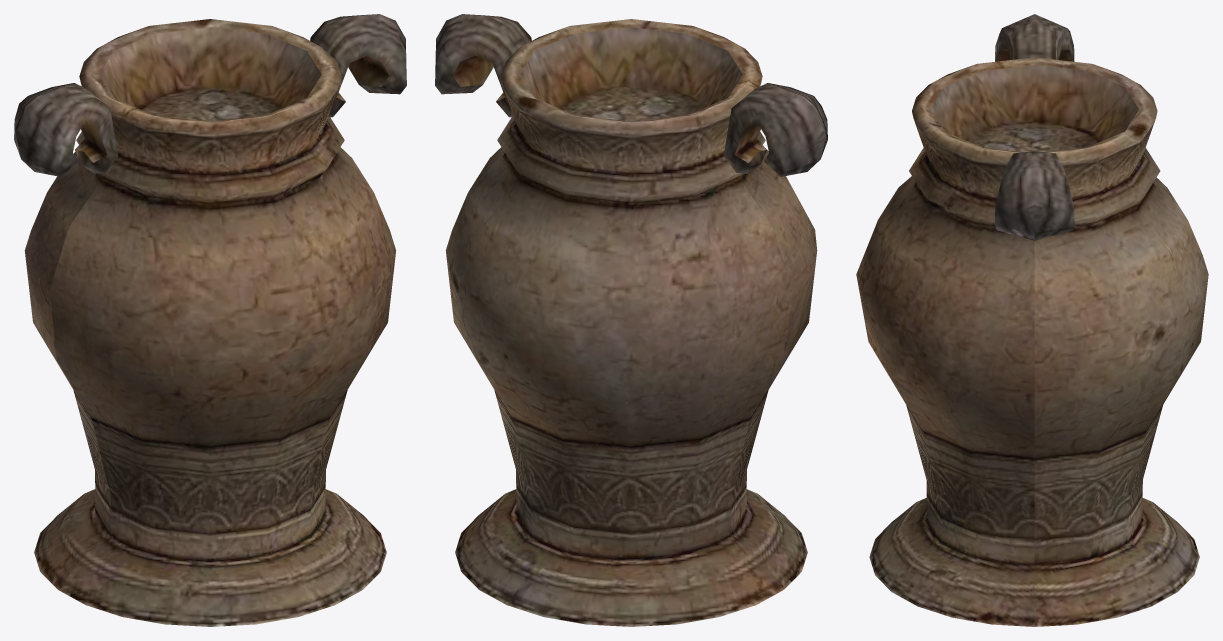
Rendered from eso_gu1_Pottery6-transformed.glb.
3 views of the same model, side by side, from view 1: azimuth 30°, elevation 25°; view 2: azimuth 150°, elevation 25°; view 3: azimuth 270°, elevation 25° (orthographic). The views are drawn at different scales.
Visible parts, largest first — view 1: default; view 2: default; view 3: default.
Boxes of the visible parts, x1,y1,x2,y2 form: default: [14, 14, 406, 626]; default: [435, 14, 827, 626]; default: [856, 14, 1208, 626].
Bounding box in the file's own units: 0.872 × 1.07 × 0.729.
1 material, 1 textured.
